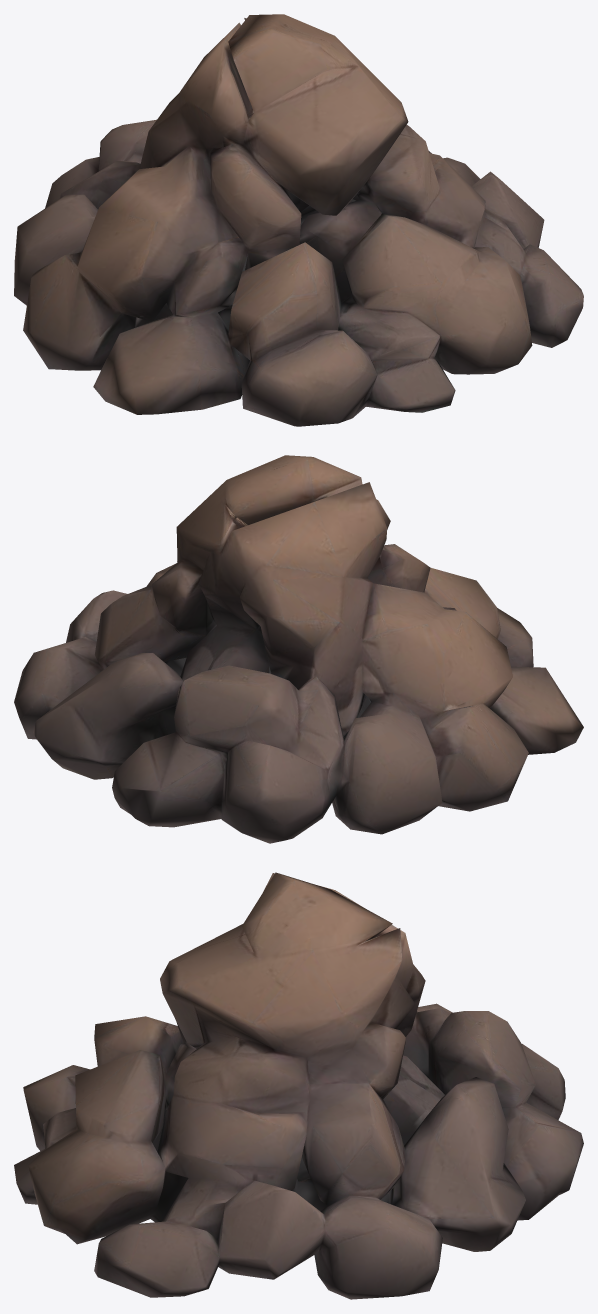
File: rock-pile.glb
The picture shows the model from 3 angles, top to bottom: view 1: azimuth 30°, elevation 25°; view 2: azimuth 150°, elevation 25°; view 3: azimuth 270°, elevation 25°; orthographic projection. The views are drawn at different scales.
Bounding box in the file's own units: 1.9 × 1.1 × 1.88.
1 material, 1 textured.
